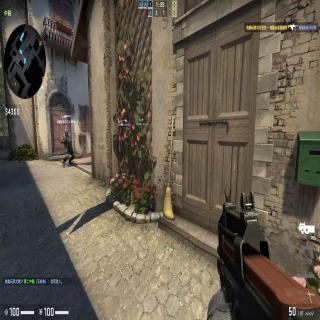CT-Body: (61, 128, 75, 166)
CT-Head: (64, 128, 68, 136)
